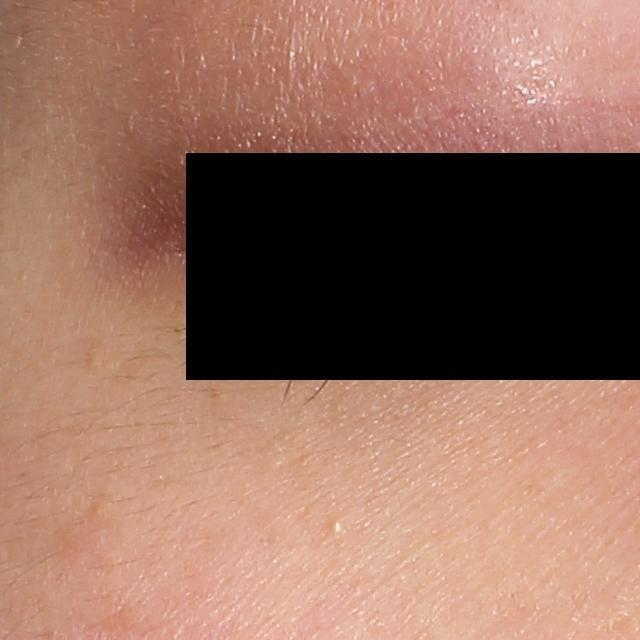comedo: (325, 516, 345, 535)
